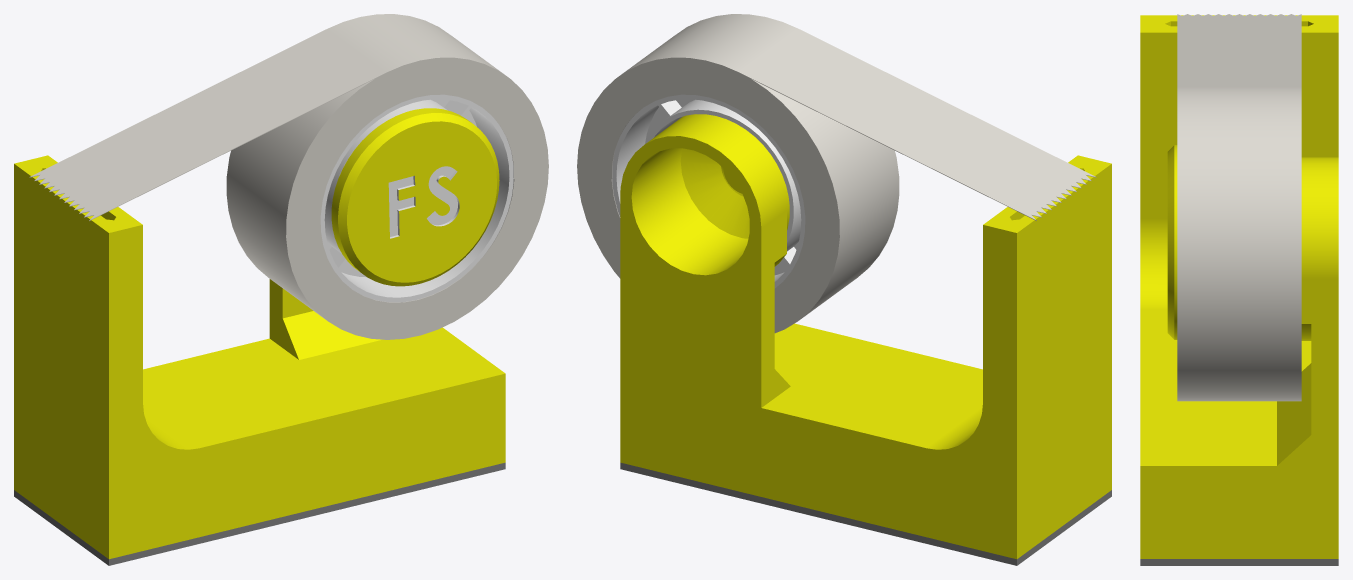
File: tape-holder.glb
3 renders of one model, left to right at view 1: azimuth 30°, elevation 25°; view 2: azimuth 150°, elevation 25°; view 3: azimuth 270°, elevation 25°, orthographic. The views are drawn at different scales.
Parts seen in each view (by area): view 1: Porta_scotch-1, Scotch-1, ferma_scotch_assiale-1, Coperchio_porta_scotch-1; view 2: Porta_scotch-1, Scotch-1, Coperchio_porta_scotch-1; view 3: Porta_scotch-1, Scotch-1, ferma_scotch_assiale-1, Coperchio_porta_scotch-1.
Boxes of the visible parts, bbox=[...] form: Porta_scotch-1: bbox=[14, 155, 505, 559]; Scotch-1: bbox=[29, 14, 548, 339]; ferma_scotch_assiale-1: bbox=[331, 108, 499, 286]; Coperchio_porta_scotch-1: bbox=[14, 462, 505, 565]; Porta_scotch-1: bbox=[620, 114, 1111, 559]; Scotch-1: bbox=[577, 14, 1096, 333]; Coperchio_porta_scotch-1: bbox=[620, 462, 1111, 565]; Porta_scotch-1: bbox=[1140, 15, 1338, 558]; Scotch-1: bbox=[1177, 14, 1301, 401]; ferma_scotch_assiale-1: bbox=[1167, 145, 1177, 339]; Coperchio_porta_scotch-1: bbox=[1140, 559, 1338, 565].
Size of the model in its own units: 0.0811 by 0.0695 by 0.029.
